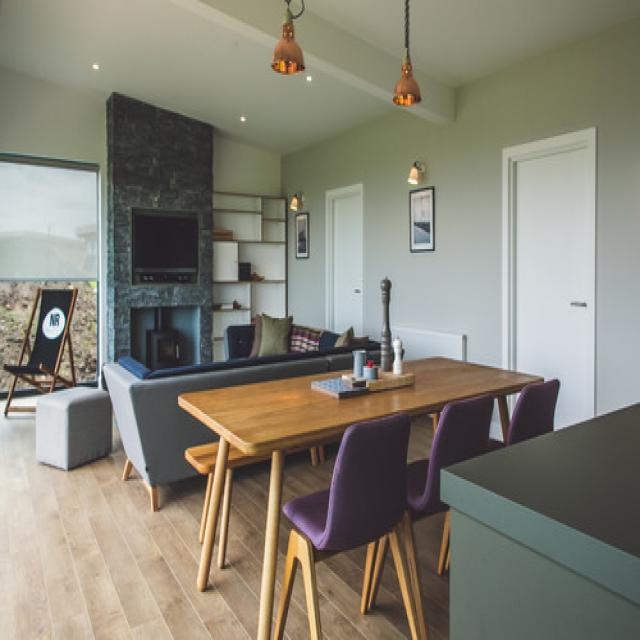modern chair: (299, 407, 416, 640)
modern desk: (183, 360, 430, 640)
